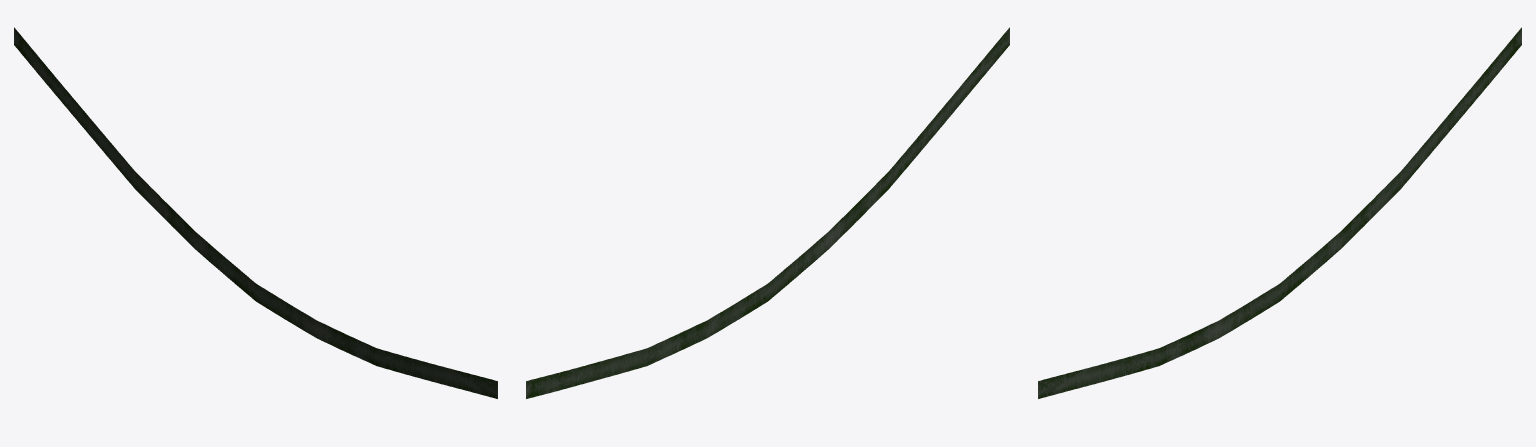
The model's file is GreenWire.fbx.
3 renders of one model, left to right at view 1: azimuth 30°, elevation 25°; view 2: azimuth 150°, elevation 25°; view 3: azimuth 330°, elevation 25°, orthographic.
Parts seen in each view (by area): view 1: GreenWire; view 2: GreenWire; view 3: GreenWire.
Part boxes in pixels (x1,y1,x2,y2): GreenWire: (14, 27, 497, 398); GreenWire: (526, 27, 1009, 398); GreenWire: (1038, 27, 1521, 398).
Size of the model in its own units: 2.36e-06 by 72.42 by 500.
